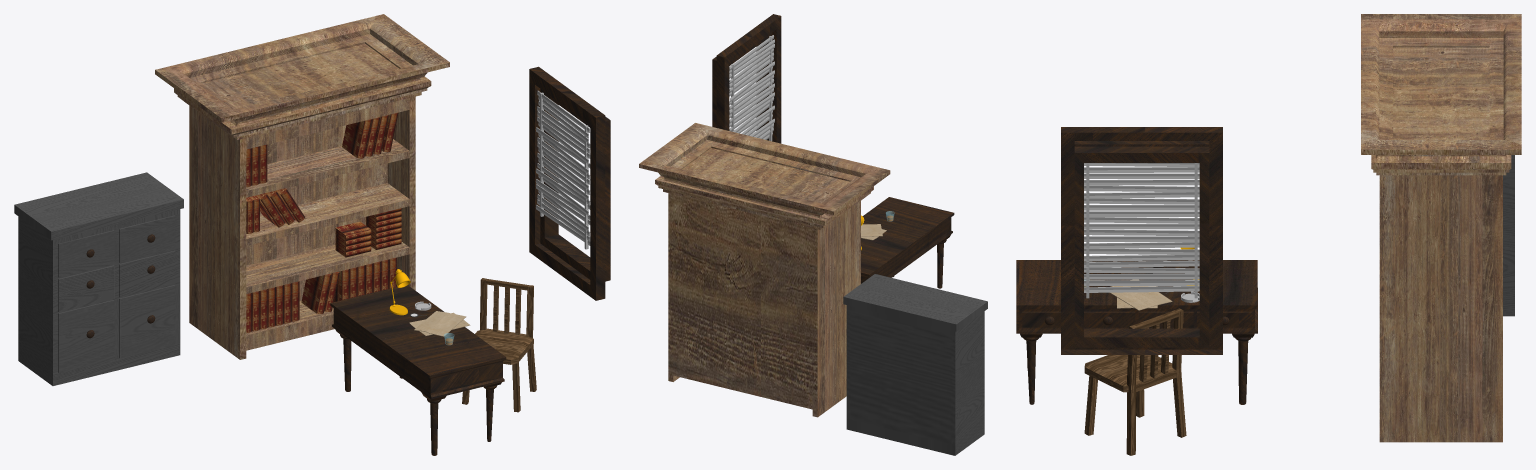
3 renders of one model, left to right at view 1: azimuth 30°, elevation 25°; view 2: azimuth 150°, elevation 25°; view 3: azimuth 270°, elevation 25°, orthographic. The views are drawn at different scales.
Parts seen in each view (by area): view 1: bookshelf_1, commode_2, table_6, window_14, jalousie_5, chair_25, books_26, books.001_27, books.002_28, books.003_29, papers_3, books.010_36 (+2 smaller); view 2: bookshelf_1, commode_2, table_6, jalousie_5, window_14; view 3: bookshelf_1, window_14, jalousie_5, table_6, chair_25, commode_2, papers_3.
Part boxes in pixels (x1=…): bookshelf_1: x1=155, y1=14, x2=449, y2=359; commode_2: x1=14, y1=172, x2=183, y2=385; table_6: x1=330, y1=285, x2=506, y2=455; window_14: x1=529, y1=66, x2=610, y2=300; jalousie_5: x1=535, y1=90, x2=590, y2=249; chair_25: x1=462, y1=278, x2=536, y2=412; books_26: x1=246, y1=281, x2=299, y2=333; books.001_27: x1=334, y1=257, x2=396, y2=301; books.002_28: x1=365, y1=208, x2=401, y2=249; books.003_29: x1=335, y1=221, x2=371, y2=257; papers_3: x1=409, y1=311, x2=470, y2=336; books.010_36: x1=301, y1=274, x2=331, y2=313; bookshelf_1: x1=639, y1=123, x2=890, y2=417; commode_2: x1=843, y1=274, x2=987, y2=455; table_6: x1=861, y1=197, x2=954, y2=288; jalousie_5: x1=729, y1=35, x2=774, y2=141; window_14: x1=712, y1=14, x2=781, y2=143; bookshelf_1: x1=1361, y1=14, x2=1521, y2=442; window_14: x1=1061, y1=127, x2=1222, y2=354; jalousie_5: x1=1084, y1=163, x2=1199, y2=298; table_6: x1=1016, y1=260, x2=1257, y2=404; chair_25: x1=1084, y1=308, x2=1186, y2=455; commode_2: x1=1503, y1=155, x2=1514, y2=316; papers_3: x1=1109, y1=279, x2=1172, y2=310.
Bounding box in the file's own units: 9.41 × 6.23 × 8.19.
Materials: 12 (6 with a texture image).
